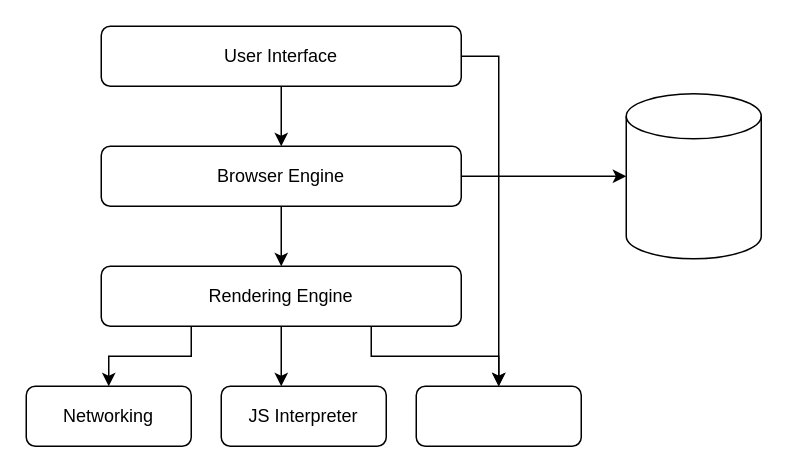
The diagram is 788 pixels wide and 473 high, and some of its shapes have lost their labels. Each missing label, with the box of its shape:
Data Persistence Layer: (625, 92, 761, 259)
UI Backend: (415, 385, 581, 446)
